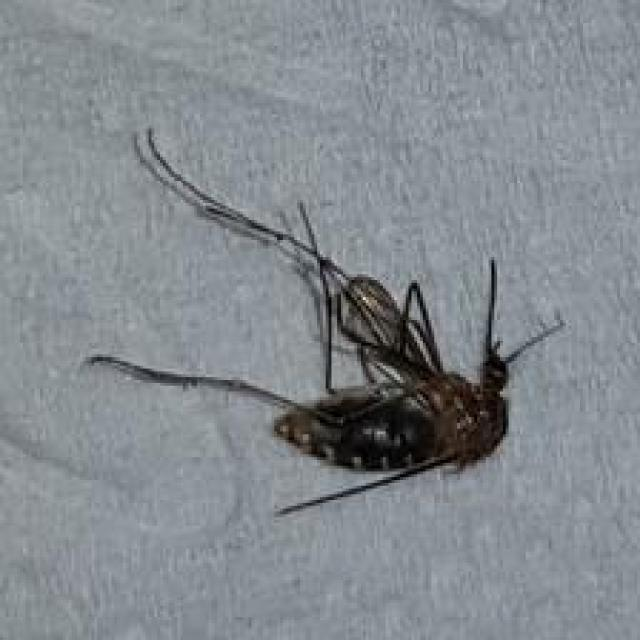Culex: (84, 126, 567, 520)
